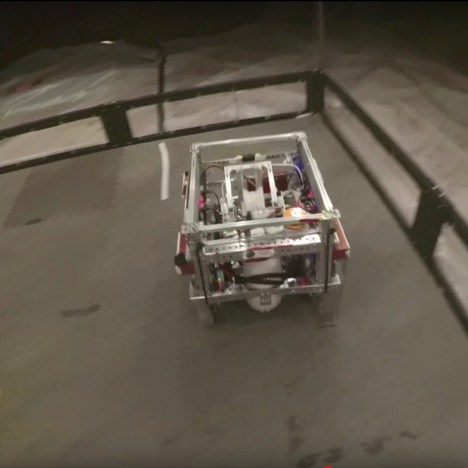robot: (167, 127, 356, 334)
